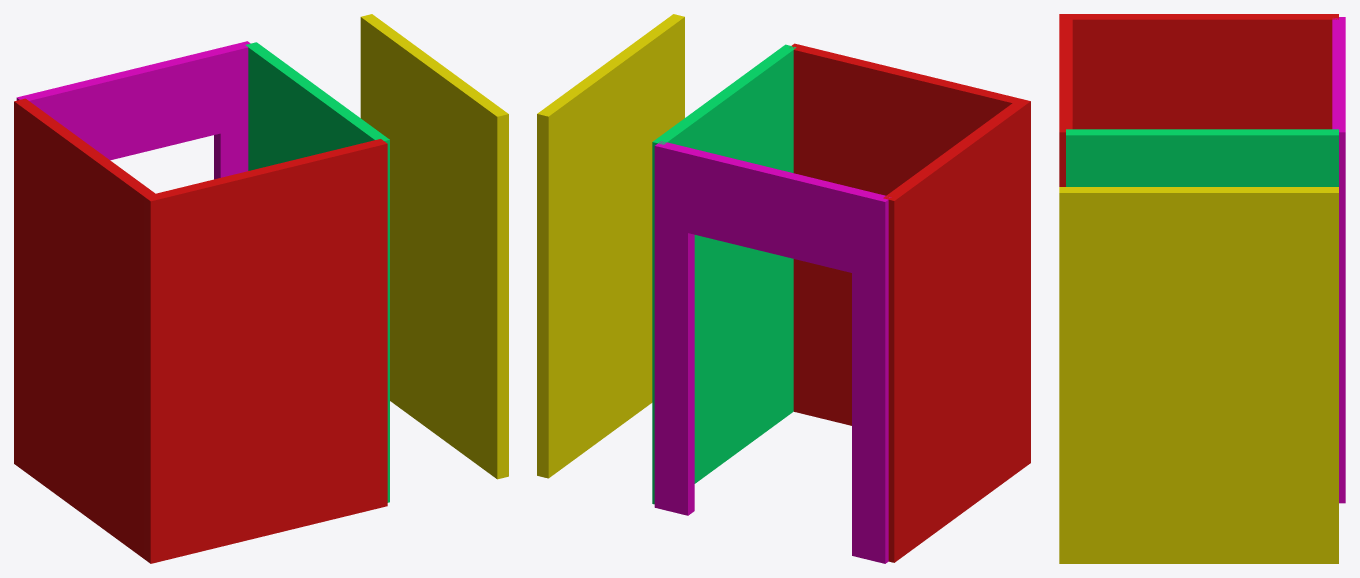
File: Wallssss.fbx
3 views of the same model, side by side, from view 1: azimuth 30°, elevation 25°; view 2: azimuth 150°, elevation 25°; view 3: azimuth 270°, elevation 25° (orthographic). The views are drawn at different scales.
Parts seen in each view (by area): view 1: Corner, Edger_Wall, Door, Wall; view 2: Corner, Edger_Wall, Door, Wall; view 3: Edger_Wall, Corner, Wall, Door.
Part boxes in pixels (<box>): Corner: <box>14,98,387,563</box>; Edger_Wall: <box>360,14,508,479</box>; Door: <box>16,41,250,179</box>; Wall: <box>245,42,389,502</box>; Corner: <box>790,43,1030,562</box>; Edger_Wall: <box>537,14,684,478</box>; Door: <box>654,141,891,563</box>; Wall: <box>652,44,796,504</box>; Edger_Wall: <box>1059,187,1338,563</box>; Corner: <box>1059,14,1338,186</box>; Wall: <box>1066,129,1338,186</box>; Door: <box>1332,17,1345,503</box>.
Size of the model in its own units: 310 by 300 by 210.
